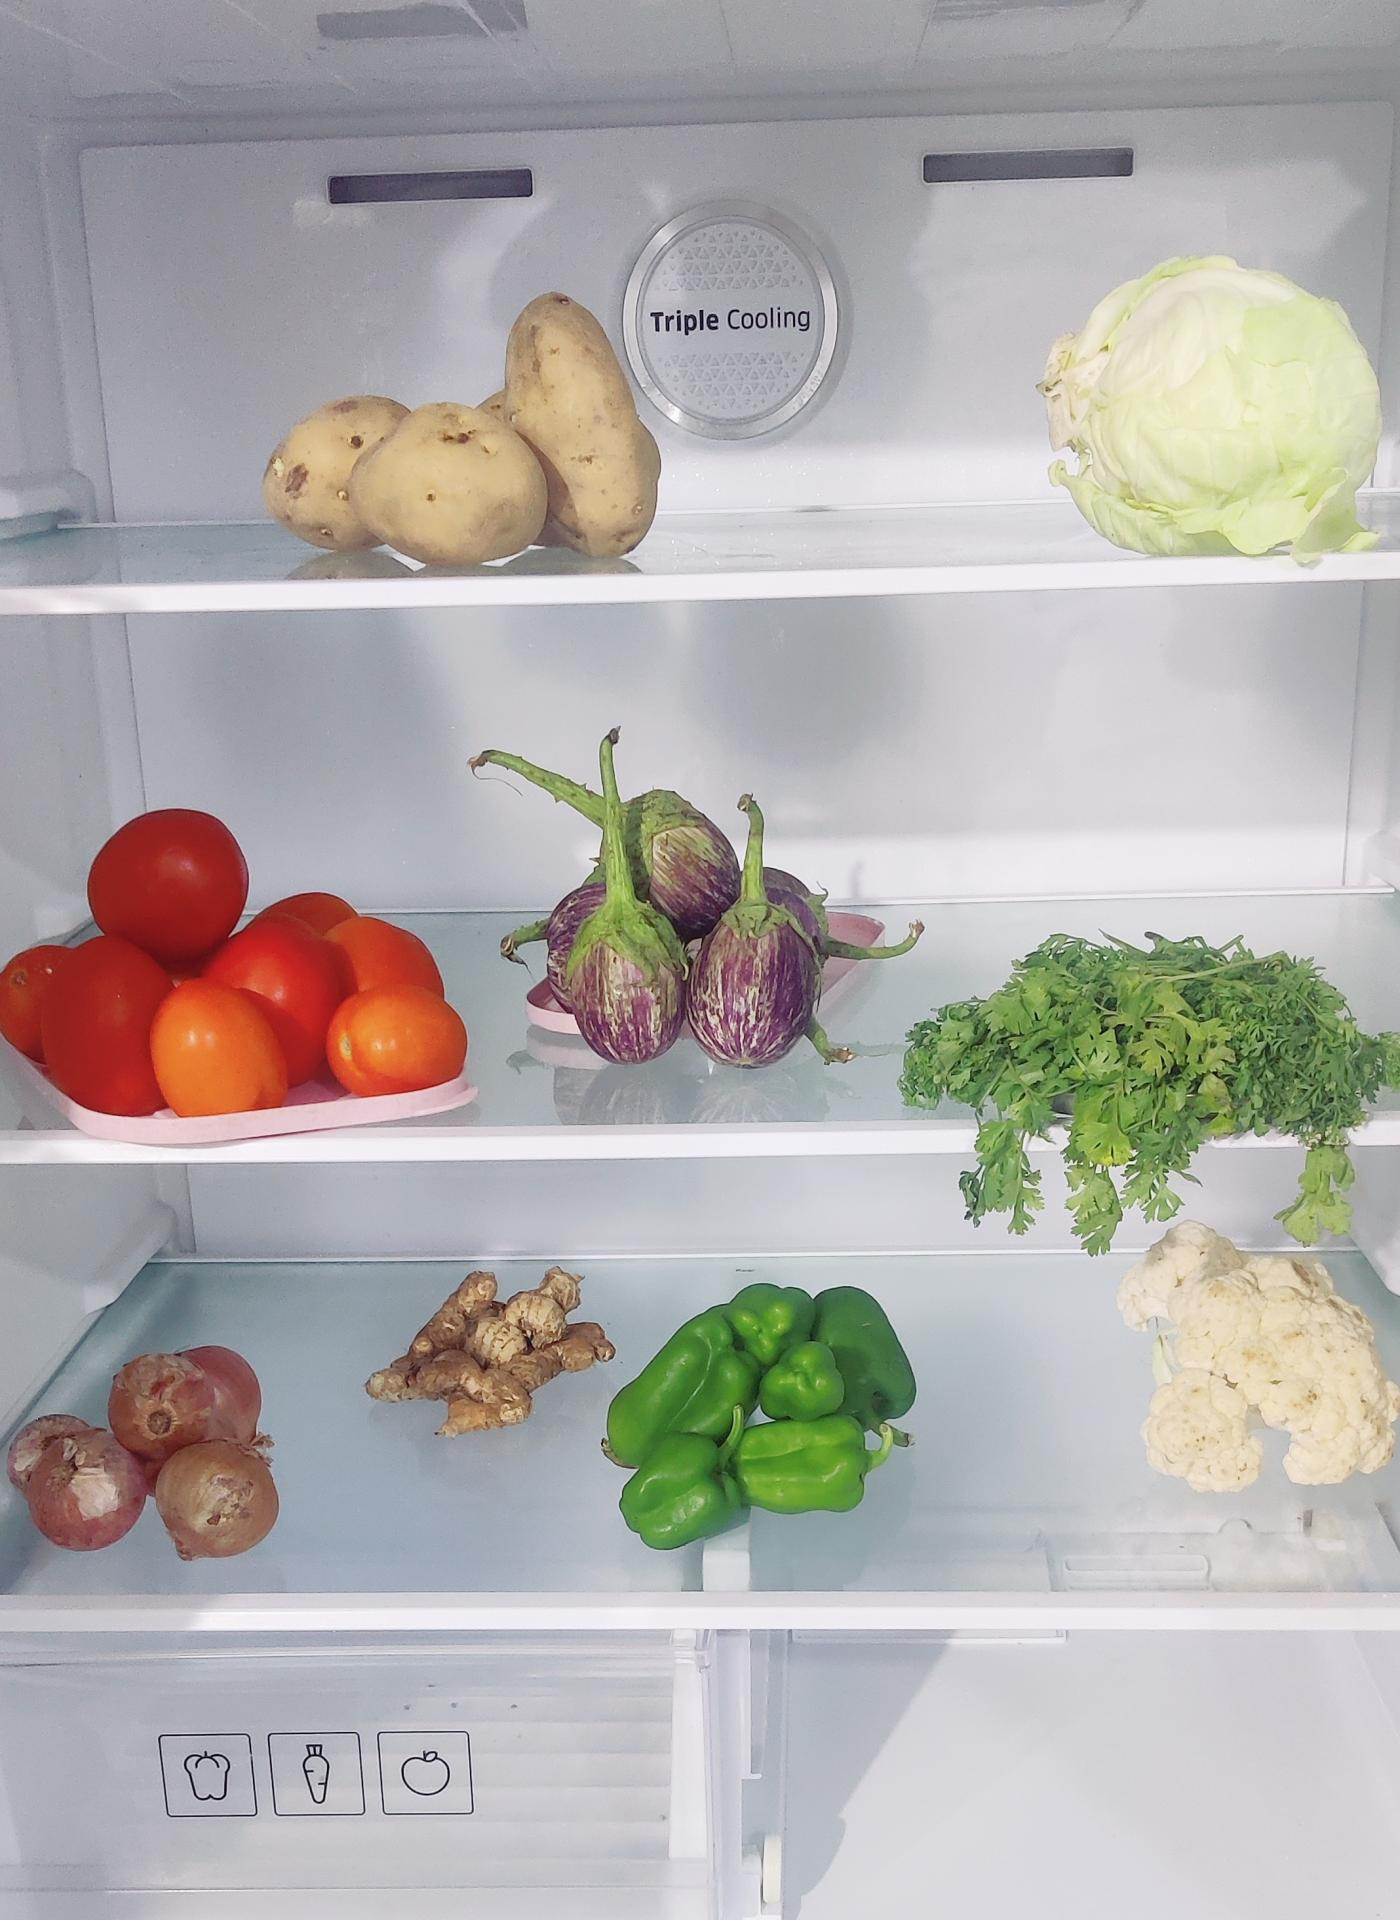brinjal: (501, 704, 871, 1067)
cabbage: (1044, 239, 1400, 574)
capsicum: (619, 1270, 932, 1522)
cauliflower: (1129, 1228, 1394, 1522)
coriander: (906, 932, 1399, 1230)
ginger: (383, 1255, 608, 1424)
onion: (9, 1337, 285, 1553)
potato: (271, 279, 674, 574)
tomato: (15, 798, 486, 1127)
